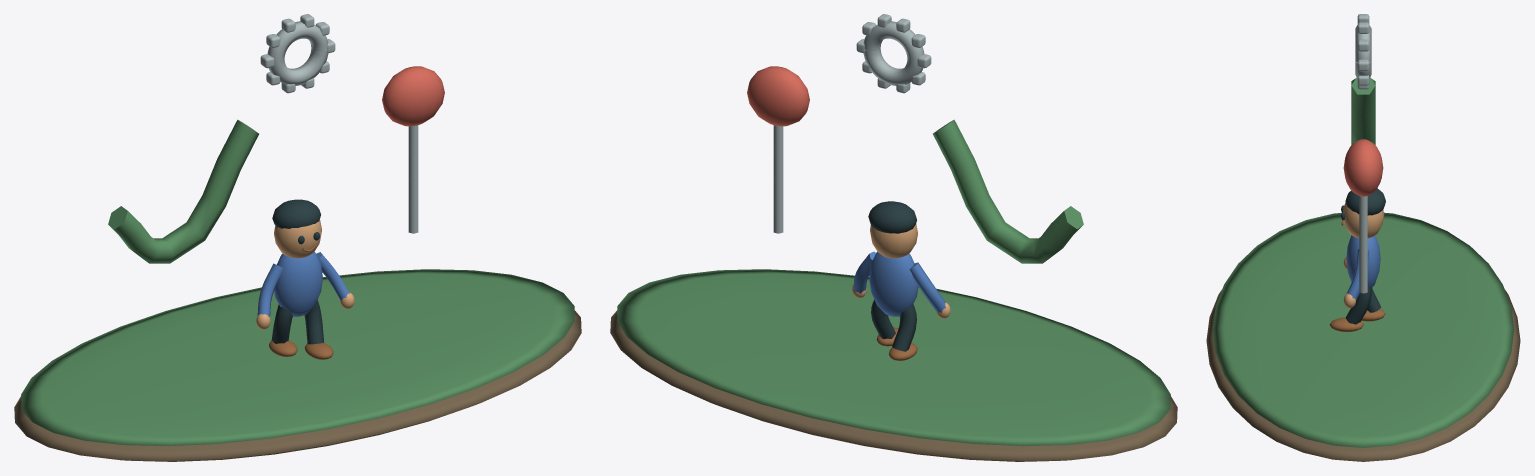
The model's file is complete-first-correct-place-now.glb.
The picture shows the model from 3 angles, left to right: view 1: azimuth 30°, elevation 25°; view 2: azimuth 150°, elevation 25°; view 3: azimuth 270°, elevation 25°; orthographic projection. The views are drawn at different scales.
Visible parts, largest first — view 1: complete-first-correct-place-now_surface_01, complete-first-correct-place-now_surface_00, complete-first-correct-place-now_surface_02, complete-first-correct-place-now_surface_07, complete-first-correct-place-now_surface_03, complete-first-correct-place-now_surface_05, complete-first-correct-place-now_surface_04, complete-first-correct-place-now_surface_06; view 2: complete-first-correct-place-now_surface_01, complete-first-correct-place-now_surface_00, complete-first-correct-place-now_surface_02, complete-first-correct-place-now_surface_07, complete-first-correct-place-now_surface_03, complete-first-correct-place-now_surface_05, complete-first-correct-place-now_surface_04; view 3: complete-first-correct-place-now_surface_01, complete-first-correct-place-now_surface_00, complete-first-correct-place-now_surface_02, complete-first-correct-place-now_surface_03, complete-first-correct-place-now_surface_05, complete-first-correct-place-now_surface_07, complete-first-correct-place-now_surface_04, complete-first-correct-place-now_surface_06.
Part boxes in pixels (x1=…): complete-first-correct-place-now_surface_01: x1=21, y1=119, x2=574, y2=446; complete-first-correct-place-now_surface_00: x1=14, y1=310, x2=581, y2=461; complete-first-correct-place-now_surface_02: x1=260, y1=14, x2=418, y2=233; complete-first-correct-place-now_surface_07: x1=257, y1=251, x2=349, y2=316; complete-first-correct-place-now_surface_03: x1=382, y1=66, x2=444, y2=126; complete-first-correct-place-now_surface_05: x1=271, y1=199, x2=324, y2=344; complete-first-correct-place-now_surface_04: x1=256, y1=220, x2=354, y2=329; complete-first-correct-place-now_surface_06: x1=269, y1=245, x2=333, y2=359; complete-first-correct-place-now_surface_01: x1=617, y1=119, x2=1170, y2=446; complete-first-correct-place-now_surface_00: x1=610, y1=310, x2=1177, y2=461; complete-first-correct-place-now_surface_02: x1=773, y1=14, x2=931, y2=233; complete-first-correct-place-now_surface_07: x1=853, y1=251, x2=945, y2=316; complete-first-correct-place-now_surface_03: x1=747, y1=66, x2=809, y2=126; complete-first-correct-place-now_surface_05: x1=868, y1=201, x2=916, y2=351; complete-first-correct-place-now_surface_04: x1=852, y1=223, x2=950, y2=318; complete-first-correct-place-now_surface_01: x1=1212, y1=77, x2=1514, y2=447; complete-first-correct-place-now_surface_00: x1=1206, y1=290, x2=1520, y2=461; complete-first-correct-place-now_surface_02: x1=1355, y1=14, x2=1371, y2=293; complete-first-correct-place-now_surface_03: x1=1343, y1=139, x2=1383, y2=196; complete-first-correct-place-now_surface_05: x1=1341, y1=188, x2=1385, y2=324; complete-first-correct-place-now_surface_07: x1=1346, y1=235, x2=1380, y2=300; complete-first-correct-place-now_surface_04: x1=1343, y1=202, x2=1384, y2=308; complete-first-correct-place-now_surface_06: x1=1329, y1=220, x2=1385, y2=331.
Size of the model in its own units: 4.56 by 2.95 by 2.5.
